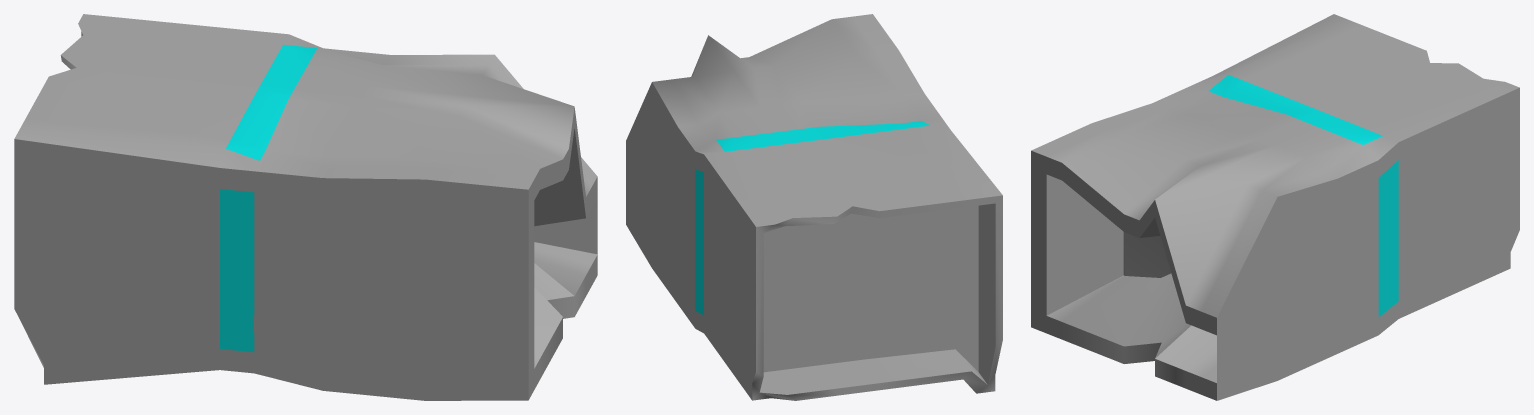
File: Destroyed Building 1.fbx
3 renders of one model, left to right at view 1: azimuth 30°, elevation 25°; view 2: azimuth 150°, elevation 25°; view 3: azimuth 270°, elevation 25°, orthographic. The views are drawn at different scales.
Visible parts, largest first — view 1: polySurface3; view 2: polySurface3; view 3: polySurface3.
Boxes of the visible parts, left/top/right/bottom form: polySurface3: left=14, top=14, right=597, bottom=400; polySurface3: left=626, top=14, right=1002, bottom=400; polySurface3: left=1031, top=14, right=1519, bottom=400.
Size of the model in its own units: 2.56 by 1.16 by 2.51.
